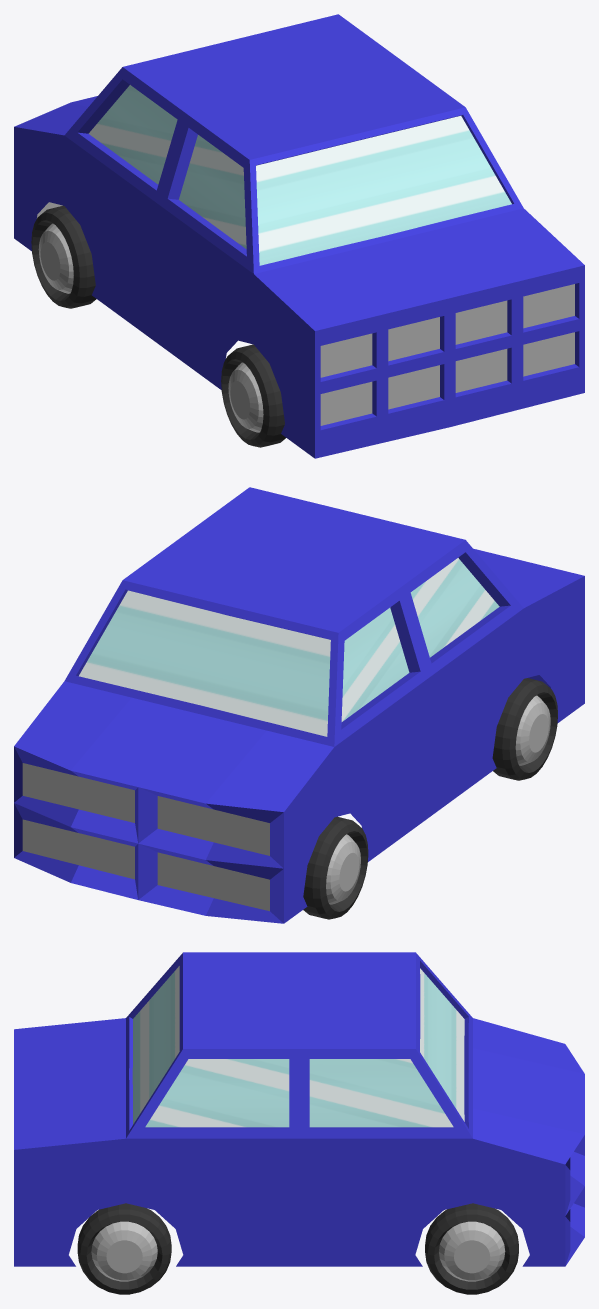
Rendered from Props_Car_04.fbx.
The picture shows the model from 3 angles, top to bottom: view 1: azimuth 30°, elevation 25°; view 2: azimuth 150°, elevation 25°; view 3: azimuth 270°, elevation 25°; orthographic projection. The views are drawn at different scales.
Parts seen in each view (by area): view 1: Props_Car_04; view 2: Props_Car_04; view 3: Props_Car_04.
Boxes of the visible parts, x1,y1,x2,y2 form: Props_Car_04: (14, 14, 584, 458); Props_Car_04: (14, 487, 584, 923); Props_Car_04: (14, 952, 584, 1294).
Size of the model in its own units: 111 by 89.53 by 200.
